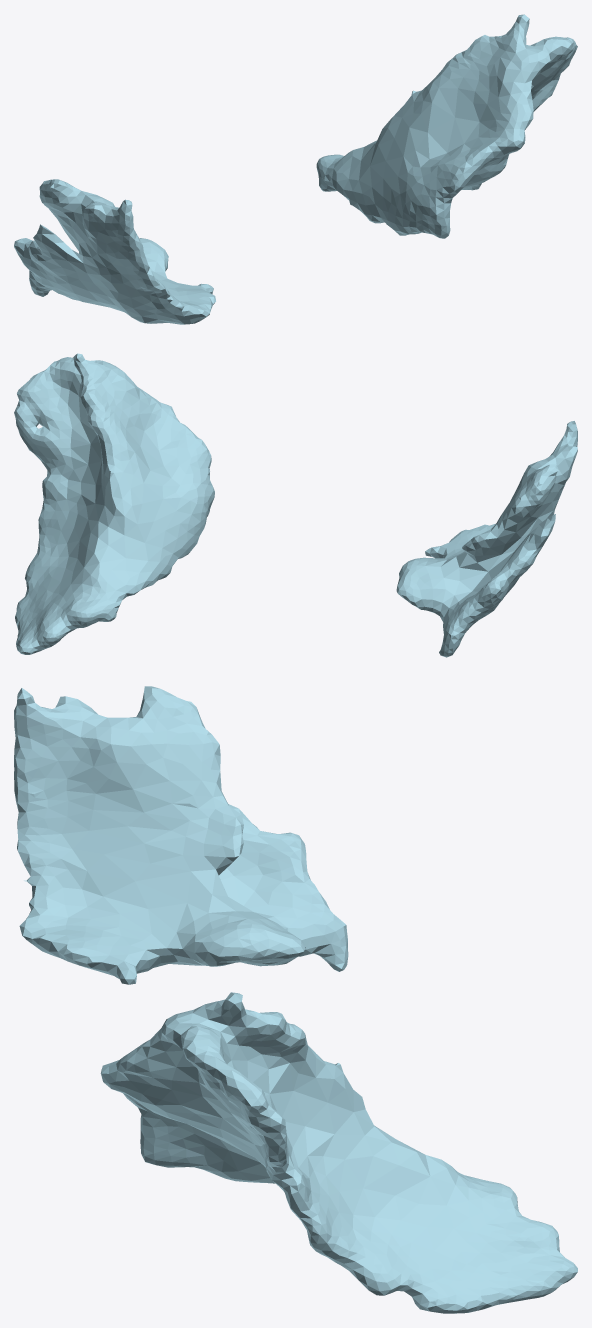
The model's file is surrenalgland.obj.
The picture shows the model from 3 angles, top to bottom: view 1: azimuth 30°, elevation 25°; view 2: azimuth 150°, elevation 25°; view 3: azimuth 270°, elevation 25°; orthographic projection. The views are drawn at different scales.
Visible parts, largest first — view 1: grp1; view 2: grp1; view 3: grp1.
Boxes of the visible parts, bbox=[...] form: grp1: bbox=[14, 14, 577, 324]; grp1: bbox=[14, 353, 577, 657]; grp1: bbox=[14, 686, 577, 1313].
Size of the model in its own units: 87.25 by 35.21 by 53.55.
